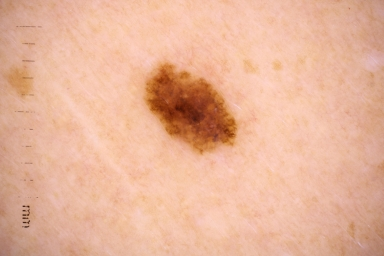melanoma: (143, 60, 237, 151)
